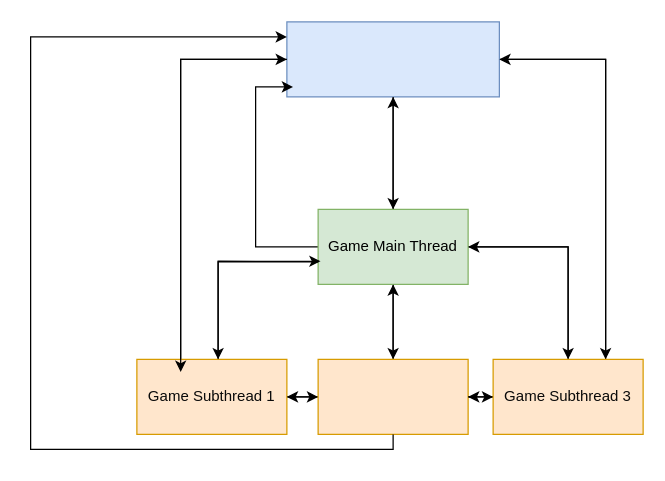
Image size: 665x481. Some labels were removed from this diagram. Here are the shapes that lost their labels. From the top down, the centre of each, then its label:
At [392,59]: "Home page".
At [392,396]: "Game Subthread 2".
